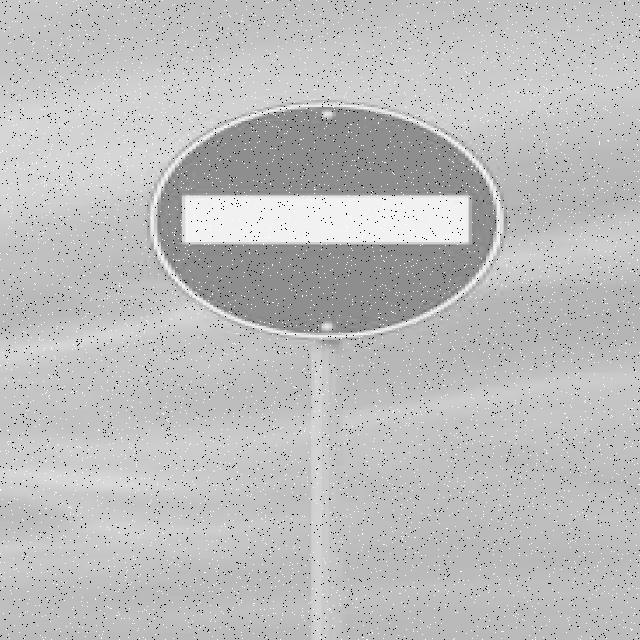no entry: (157, 107, 493, 333)
